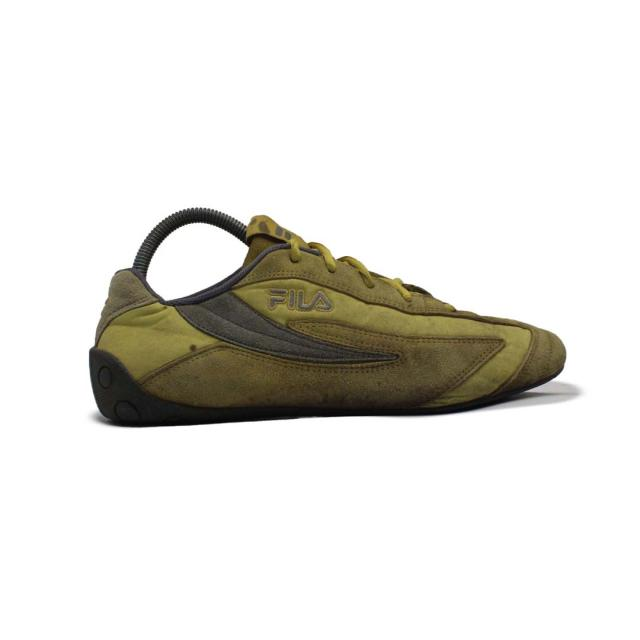heel: (83, 232, 153, 370)
midsole: (88, 354, 581, 426)
uppersole: (152, 196, 564, 398)
